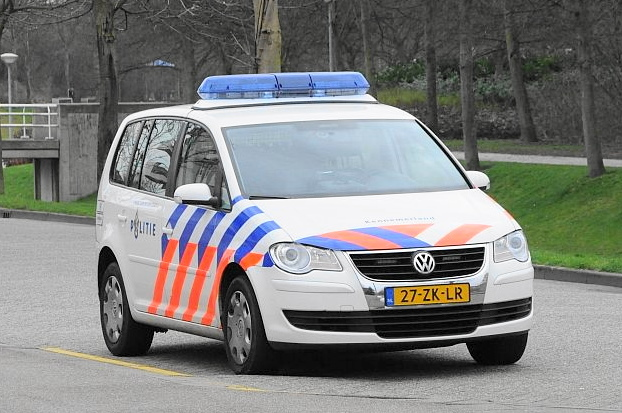kenteken: (384, 282, 472, 306)
